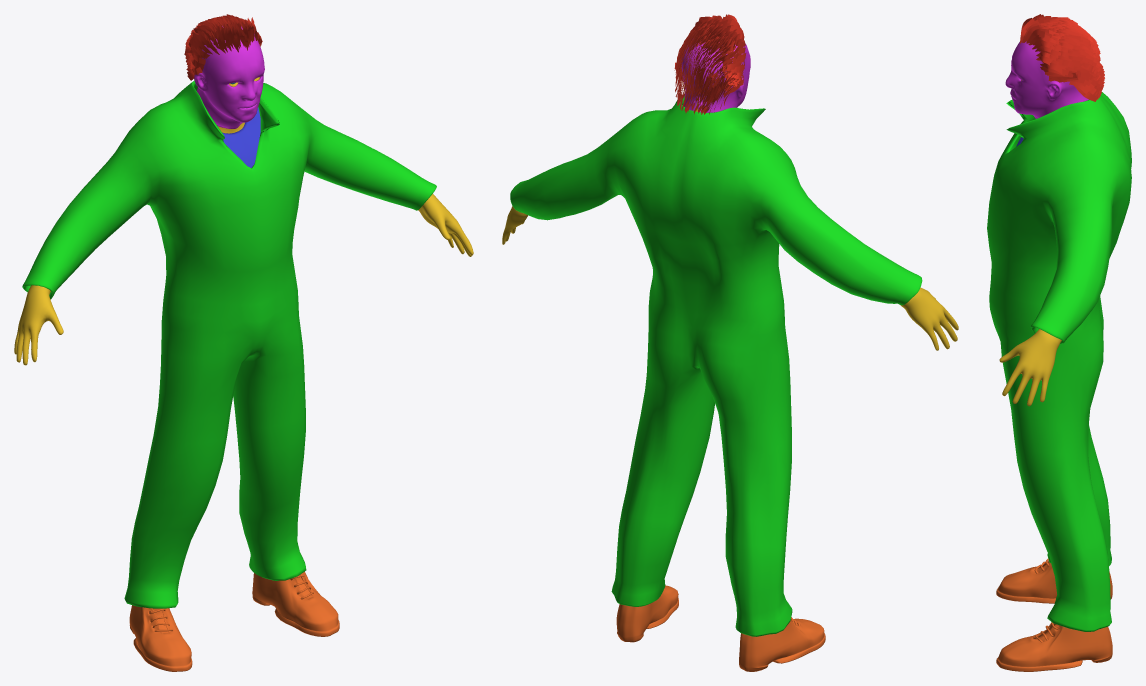
The model's file is SM_Character_MM.FBX.
3 renders of one model, left to right at view 1: azimuth 30°, elevation 25°; view 2: azimuth 150°, elevation 25°; view 3: azimuth 270°, elevation 25°, orthographic.
Parts seen in each view (by area): view 1: Overalls, Complete_Shoe, Mask, Human_Mesh, MM_hair_convert1, Shirt; view 2: Overalls, MM_hair_convert1, Complete_Shoe, Human_Mesh, Mask; view 3: Overalls, Complete_Shoe, MM_hair_convert1, Mask, Human_Mesh.
Part boxes in pixels (left/top/right/bottom): Overalls: left=22, top=80, right=436, bottom=608; Complete_Shoe: left=129, top=571, right=339, bottom=671; Mask: left=194, top=26, right=264, bottom=128; Human_Mesh: left=14, top=77, right=473, bottom=365; MM_hair_convert1: left=184, top=14, right=262, bottom=80; Shirt: left=222, top=107, right=260, bottom=167; Overalls: left=510, top=96, right=922, bottom=636; MM_hair_convert1: left=674, top=14, right=746, bottom=114; Complete_Shoe: left=616, top=585, right=825, bottom=671; Human_Mesh: left=502, top=101, right=958, bottom=350; Mask: left=681, top=42, right=750, bottom=112; Overalls: left=987, top=92, right=1131, bottom=631; Complete_Shoe: left=996, top=558, right=1112, bottom=671; MM_hair_convert1: left=1020, top=14, right=1104, bottom=101; Mask: left=1005, top=41, right=1088, bottom=118; Human_Mesh: left=999, top=80, right=1061, bottom=406.
Size of the model in its own units: 143 by 188 by 40.59.
